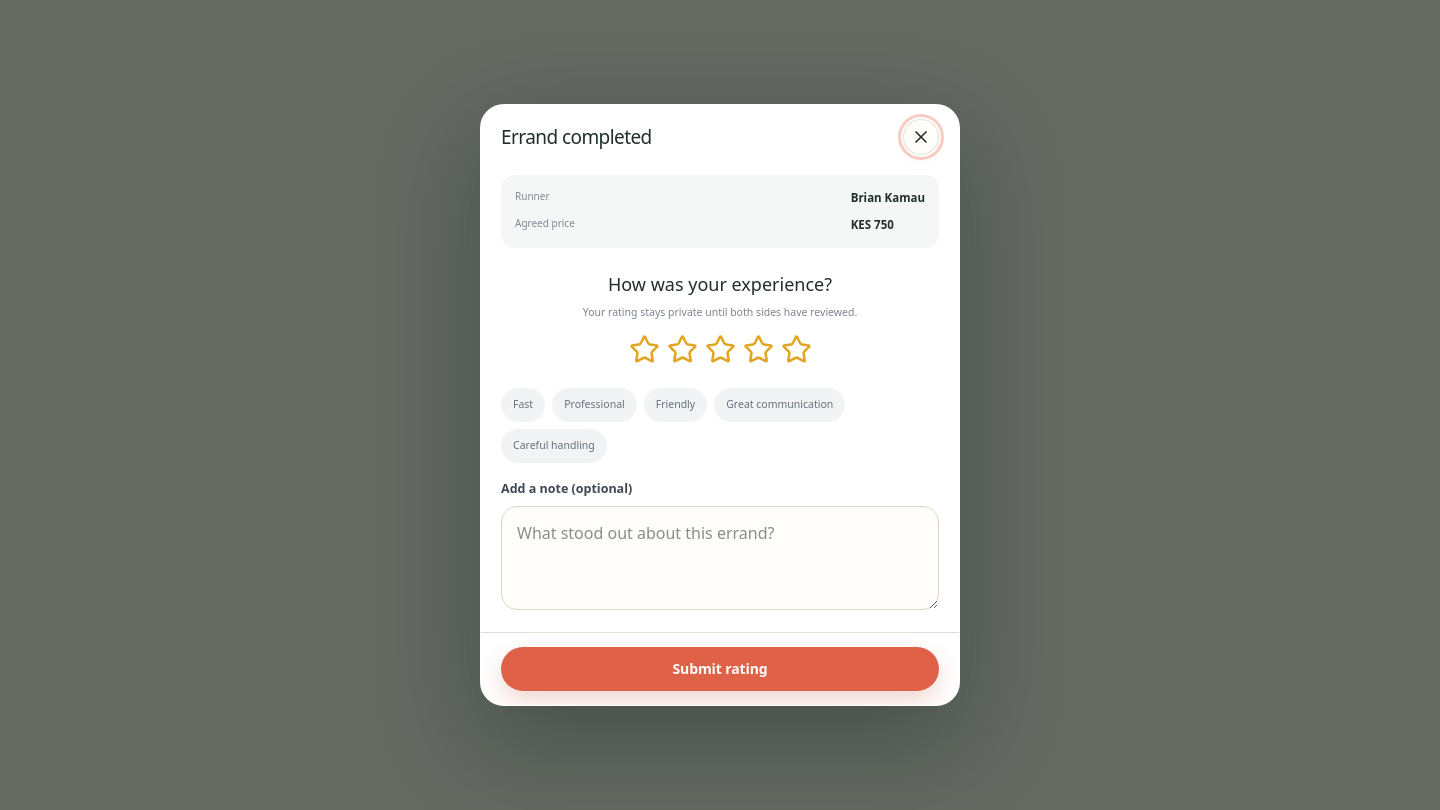
CompletionModal › shows the thank-you screen after submitting a rating
Click the button named "5 stars". click: click(796, 350)
box: [780,334,812,365]
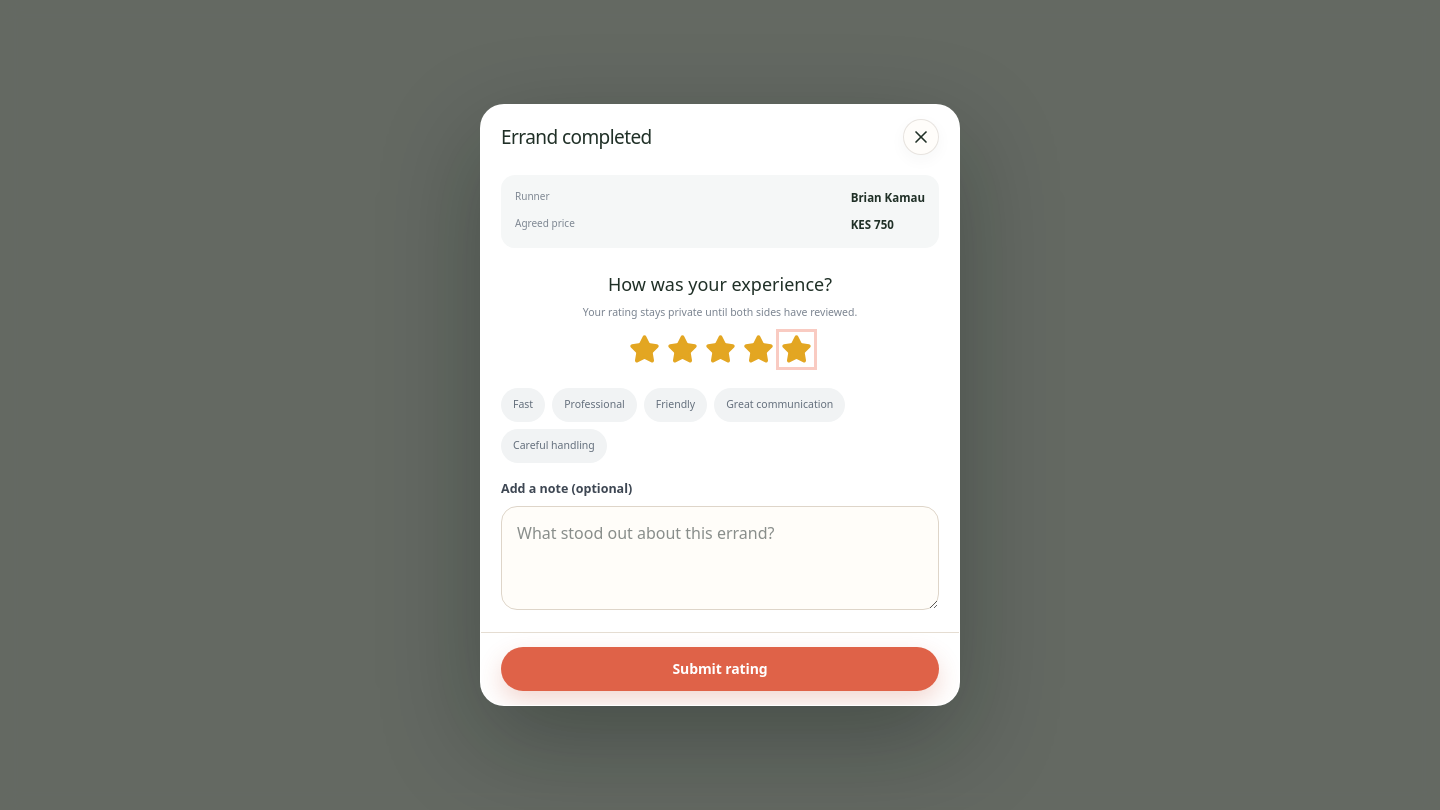
Click the button "Submit rating". click: click(720, 669)
box: [501,647,939,691]
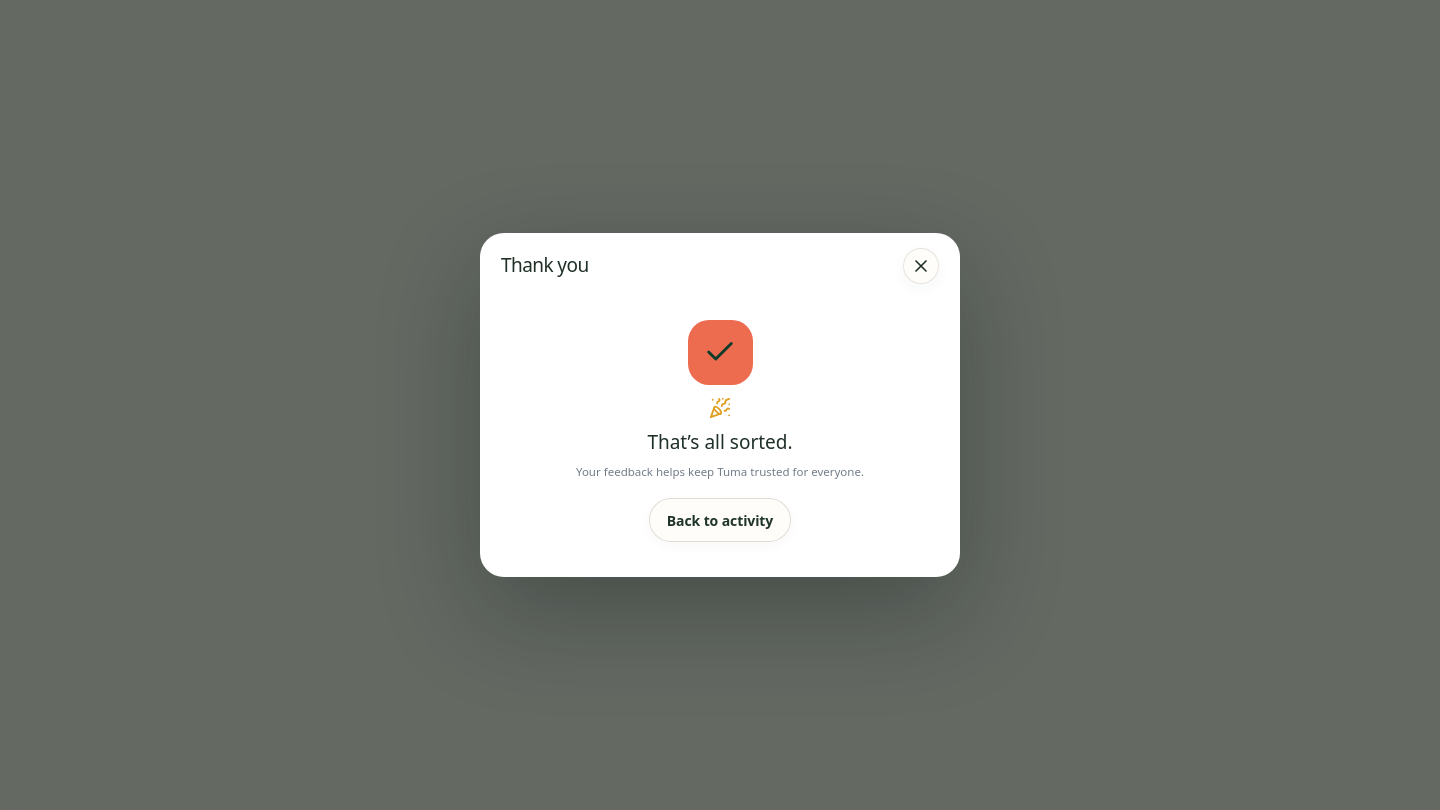
Check: the heading "That’s all sorted." is shown, box [647,428,793,456]
